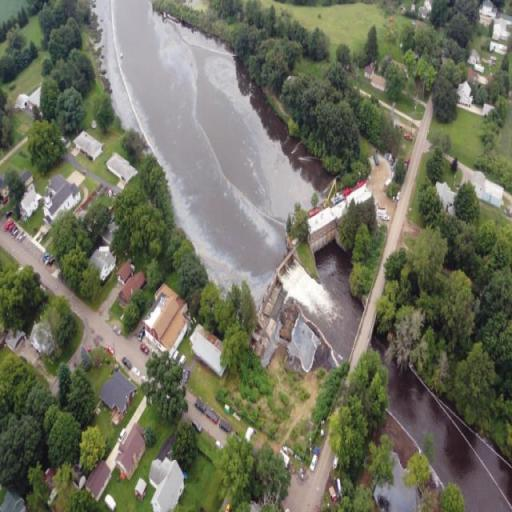flood: (95, 0, 328, 300), (390, 366, 512, 512), (283, 244, 363, 359), (378, 466, 417, 512)
house: (308, 176, 374, 262), (136, 287, 190, 363), (138, 455, 188, 512), (42, 172, 83, 222), (115, 422, 147, 478), (96, 371, 138, 413), (84, 458, 112, 504), (73, 130, 107, 164)
